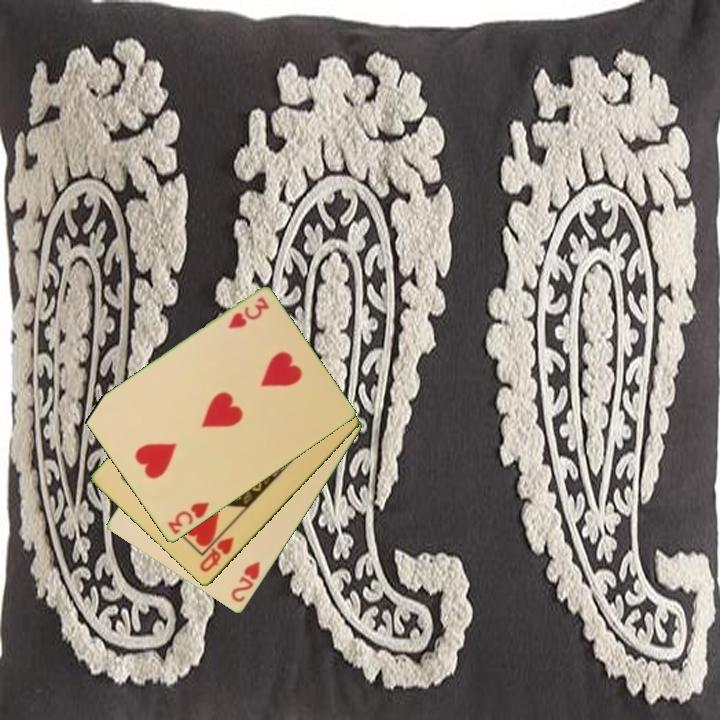2h: (228, 558, 263, 606)
3h: (164, 499, 212, 538), (224, 294, 272, 332)
Qh: (196, 534, 237, 575)
